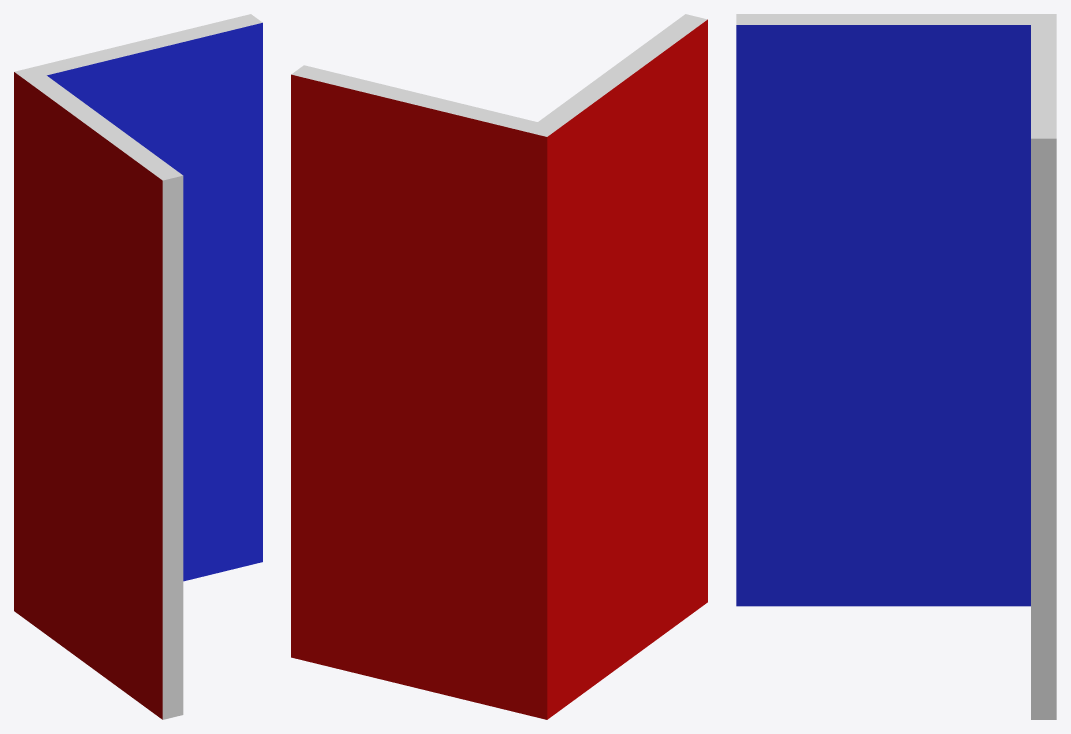
The model's file is Mesh_wall_corner_room_Final.fbx.
3 views of the same model, side by side, from view 1: azimuth 30°, elevation 25°; view 2: azimuth 150°, elevation 25°; view 3: azimuth 270°, elevation 25° (orthographic). The views are drawn at different scales.
Visible parts, largest first — view 1: mesh_wall_corner; view 2: mesh_wall_corner; view 3: mesh_wall_corner.
Part boxes in pixels (left/top/right/bottom): mesh_wall_corner: left=14, top=14, right=262, bottom=719; mesh_wall_corner: left=291, top=14, right=707, bottom=719; mesh_wall_corner: left=736, top=14, right=1056, bottom=719.
Bounding box in the file's own units: 460 × 1000 × 500.
